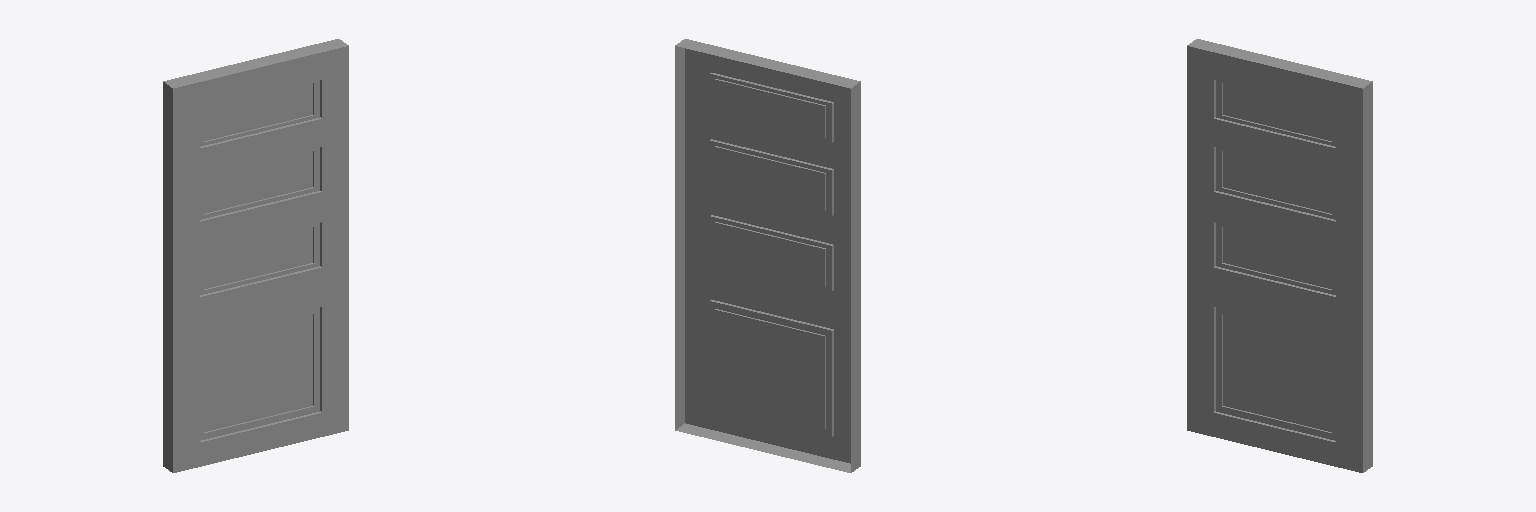
File: Door1.obj
3 renders of one model, left to right at view 1: azimuth 30°, elevation 25°; view 2: azimuth 150°, elevation 25°; view 3: azimuth 330°, elevation 25°, orthographic.
Visible parts, largest first — view 1: Door1_Cube.073; view 2: Door1_Cube.073; view 3: Door1_Cube.073.
Part boxes in pixels (x1,y1,x2,y2): Door1_Cube.073: (163, 39, 348, 472); Door1_Cube.073: (675, 39, 860, 472); Door1_Cube.073: (1187, 39, 1372, 472).
Bounding box in the file's own units: 0.4386 × 0.9169 × 0.0429.